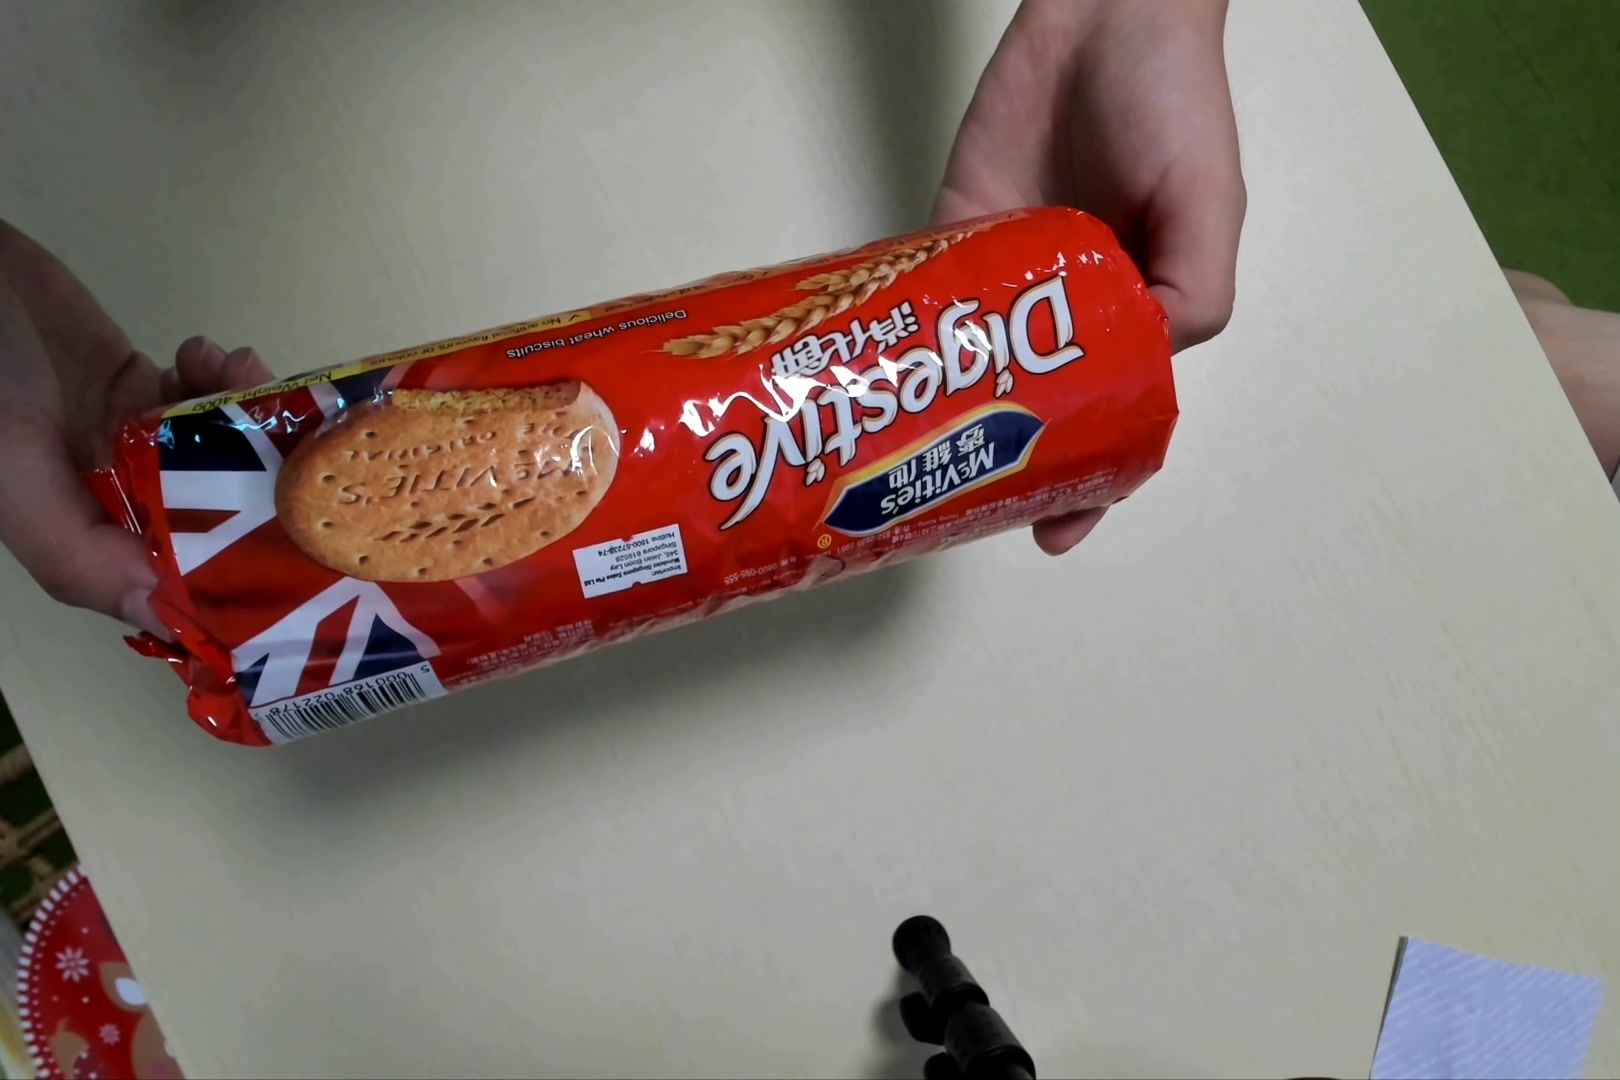BiscuitsCrackersCookies_400-499g_NonHalal_NonHealthy: (111, 210, 1185, 763)
